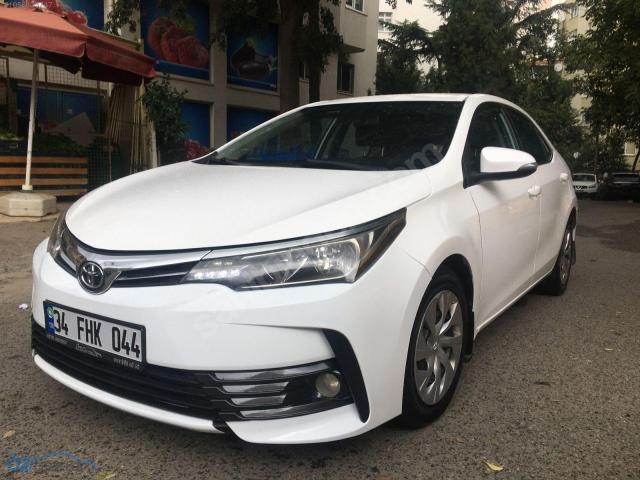plaka: (44, 302, 144, 368)
